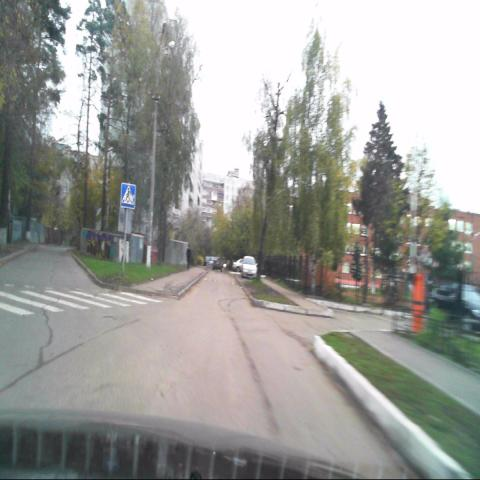5_19_1: (120, 182, 136, 209)
